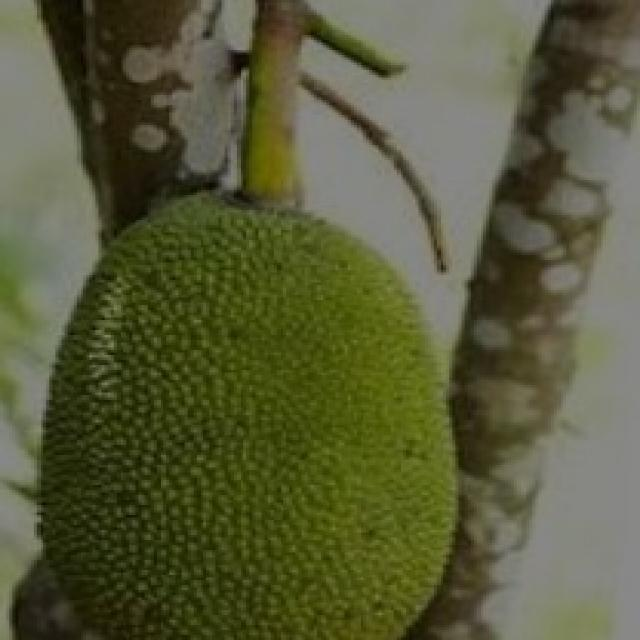Fruit: (144, 175, 510, 635)
